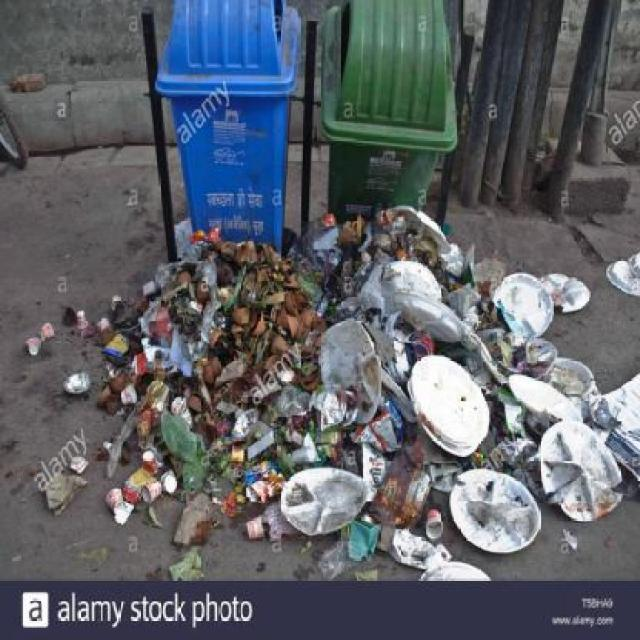garbage: (150, 237, 349, 561), (314, 222, 490, 549), (42, 302, 238, 506), (477, 285, 640, 510)
